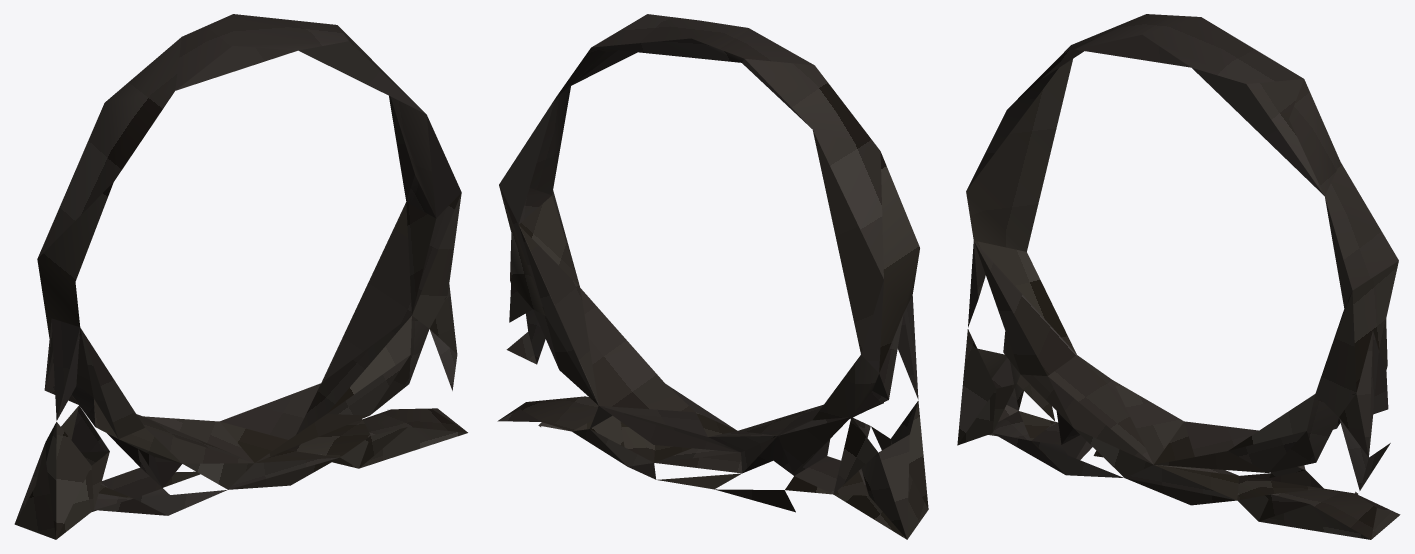
File: stunt-giant-loop.collision.glb
The picture shows the model from 3 angles, left to right: view 1: azimuth 30°, elevation 25°; view 2: azimuth 150°, elevation 25°; view 3: azimuth 330°, elevation 25°; orthographic projection. The views are drawn at different scales.
Parts seen in each view (by area): view 1: output_unwrapped; view 2: output_unwrapped; view 3: output_unwrapped.
Part boxes in pixels (left/top/right/bottom): output_unwrapped: left=14, top=14, right=467, bottom=539; output_unwrapped: left=497, top=14, right=928, bottom=539; output_unwrapped: left=957, top=14, right=1400, bottom=539.
Size of the model in its own units: 1.75 by 1.82 by 0.3049.
1 material, 1 textured.
